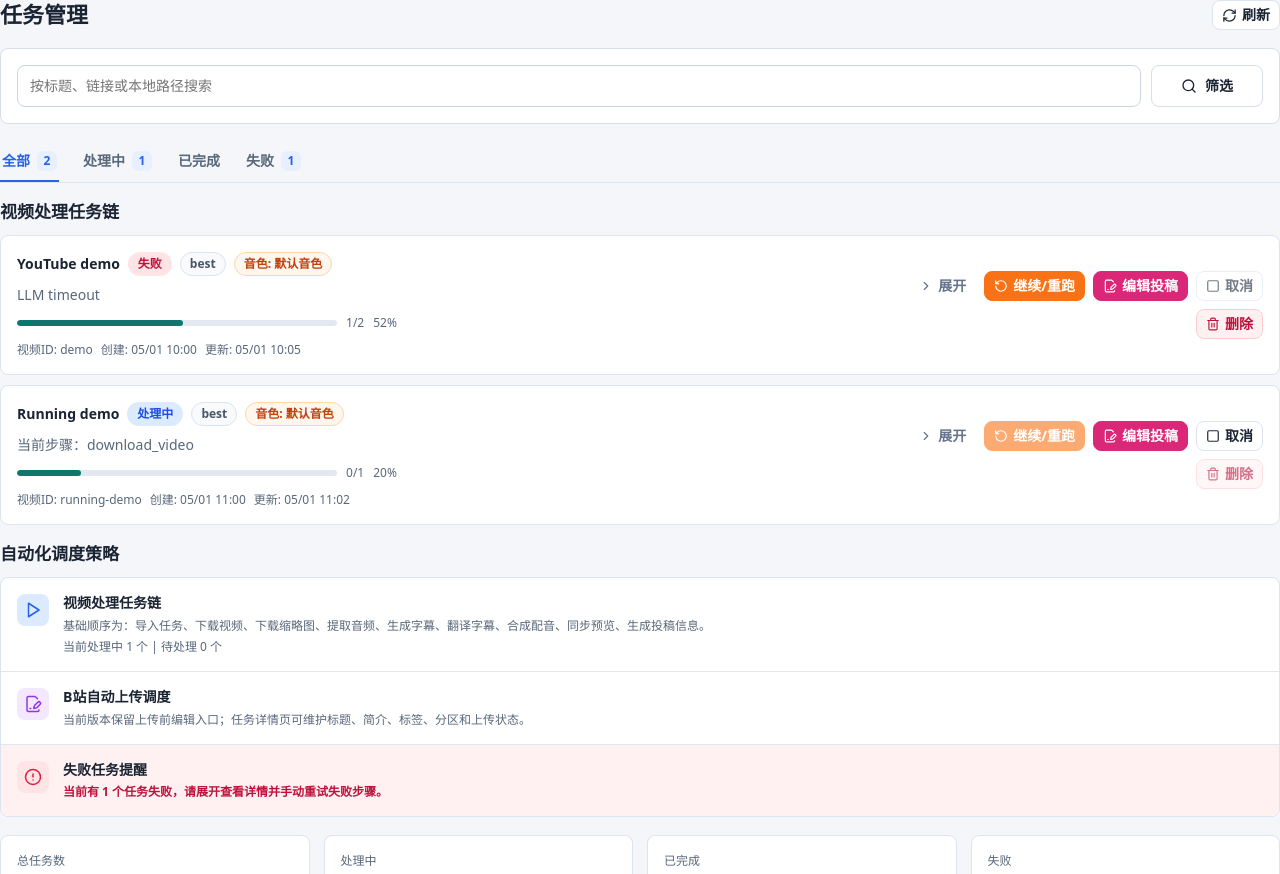
Test case: TaskListPage › confirms and deletes a terminal task then refreshes the list
Click the button "删除" in the row of "52" at (1230, 324), box top-left (1196, 309), bottom-right (1263, 339)
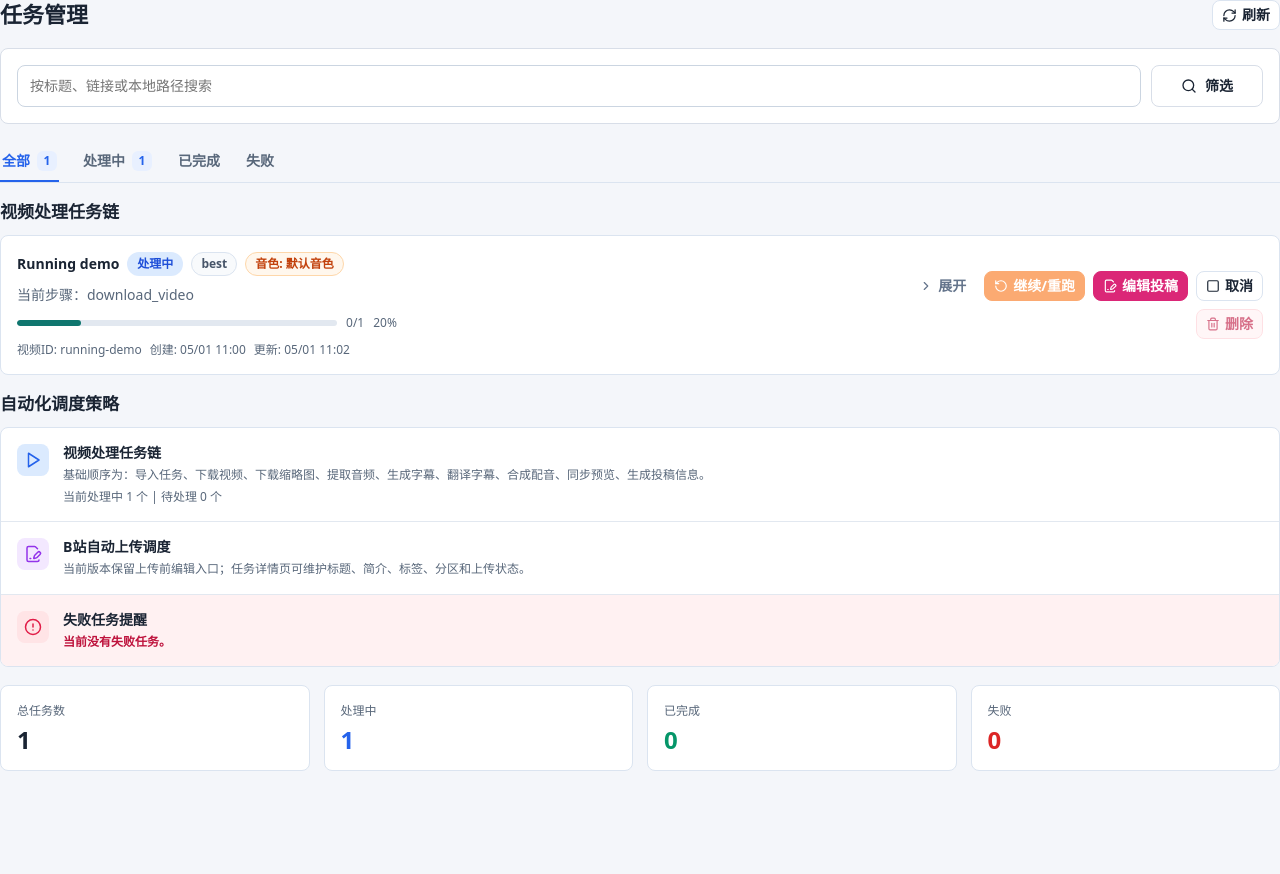
expect the text "YouTube demo" is gone: met
